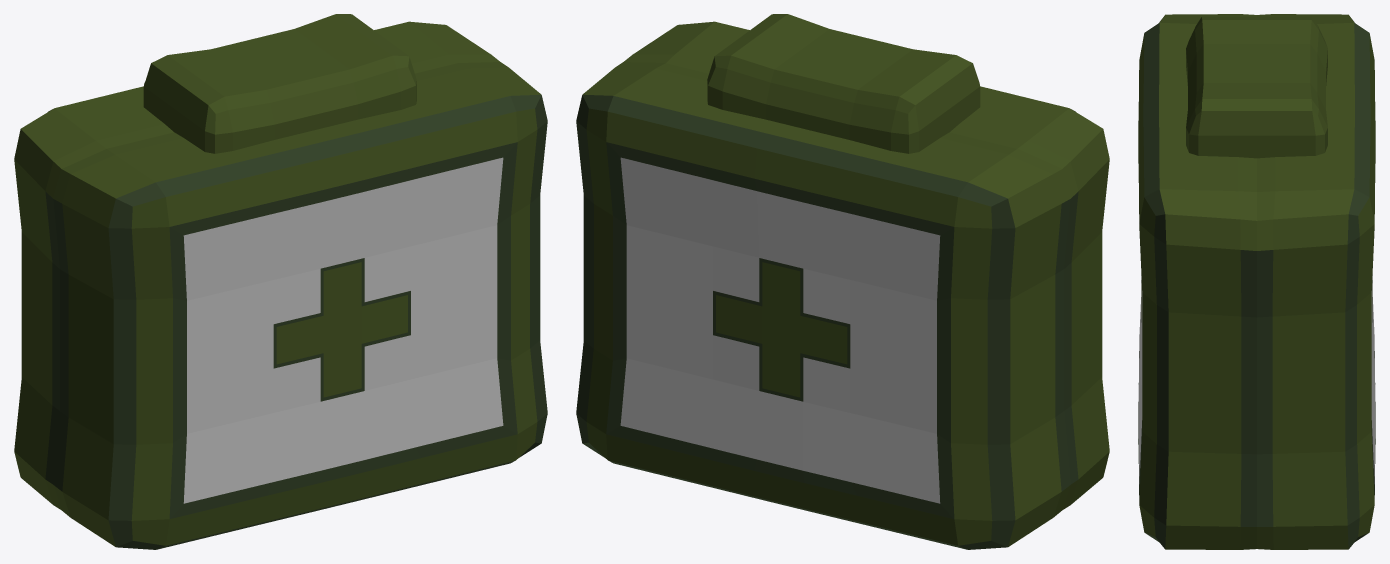
Rendered from firstaidkit-f5f29587d9.glb.
3 renders of one model, left to right at view 1: azimuth 30°, elevation 25°; view 2: azimuth 150°, elevation 25°; view 3: azimuth 270°, elevation 25°, orthographic. The views are drawn at different scales.
Parts seen in each view (by area): view 1: FirstAidKit.obj; view 2: FirstAidKit.obj; view 3: FirstAidKit.obj.
Boxes of the visible parts, x1,y1,x2,y2 form: FirstAidKit.obj: [14, 14, 547, 549]; FirstAidKit.obj: [576, 14, 1109, 549]; FirstAidKit.obj: [1138, 14, 1375, 549].
Bounding box in the file's own units: 1.56 × 1.36 × 0.7333.
